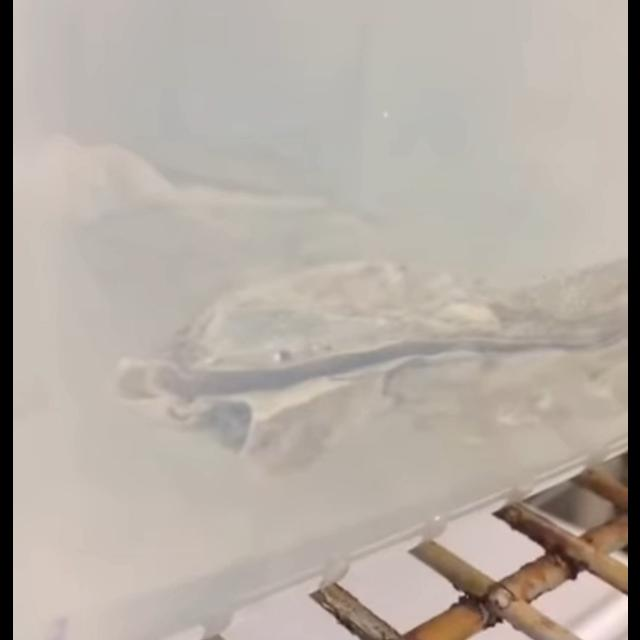Oyster-Indeterminate: (47, 126, 335, 252)
Oyster-Open: (107, 260, 628, 474)
